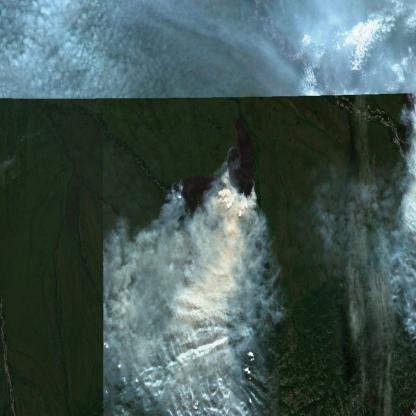fire: (169, 141, 259, 239)
